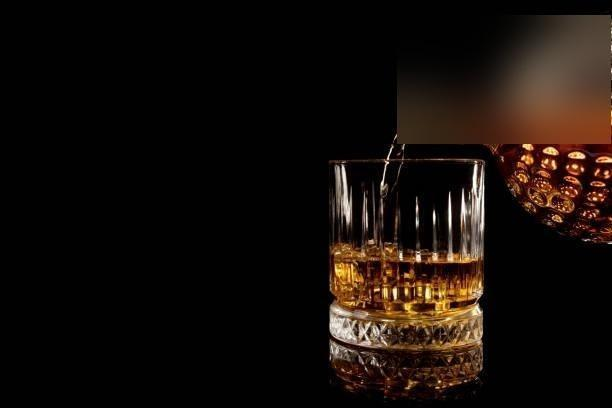glass-normal: (323, 153, 489, 398)
